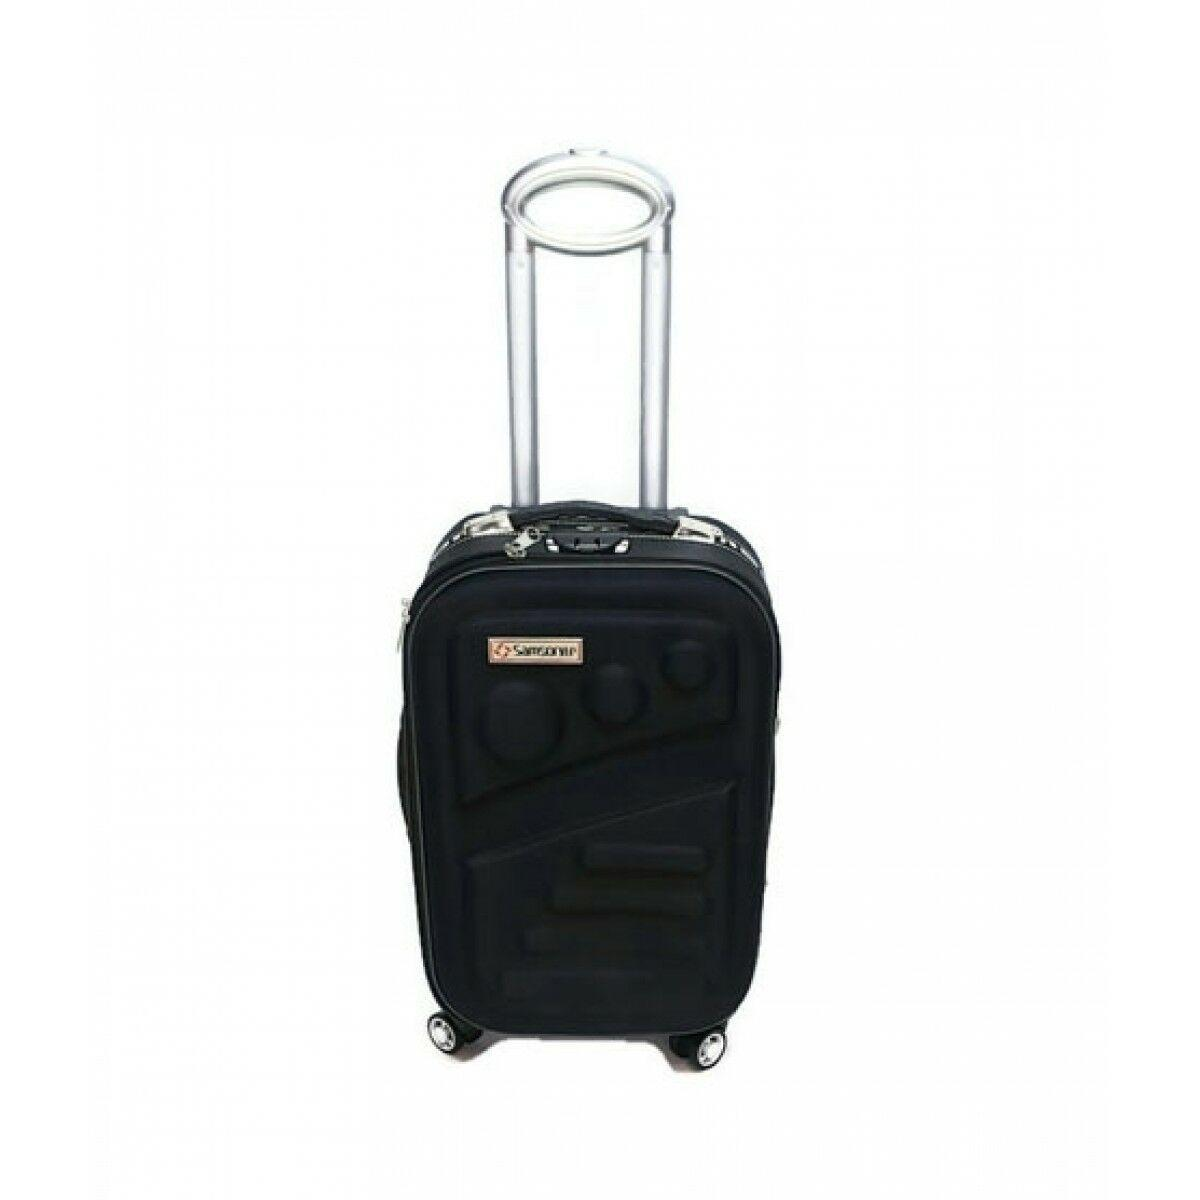suitcase: (384, 486, 790, 1038)
